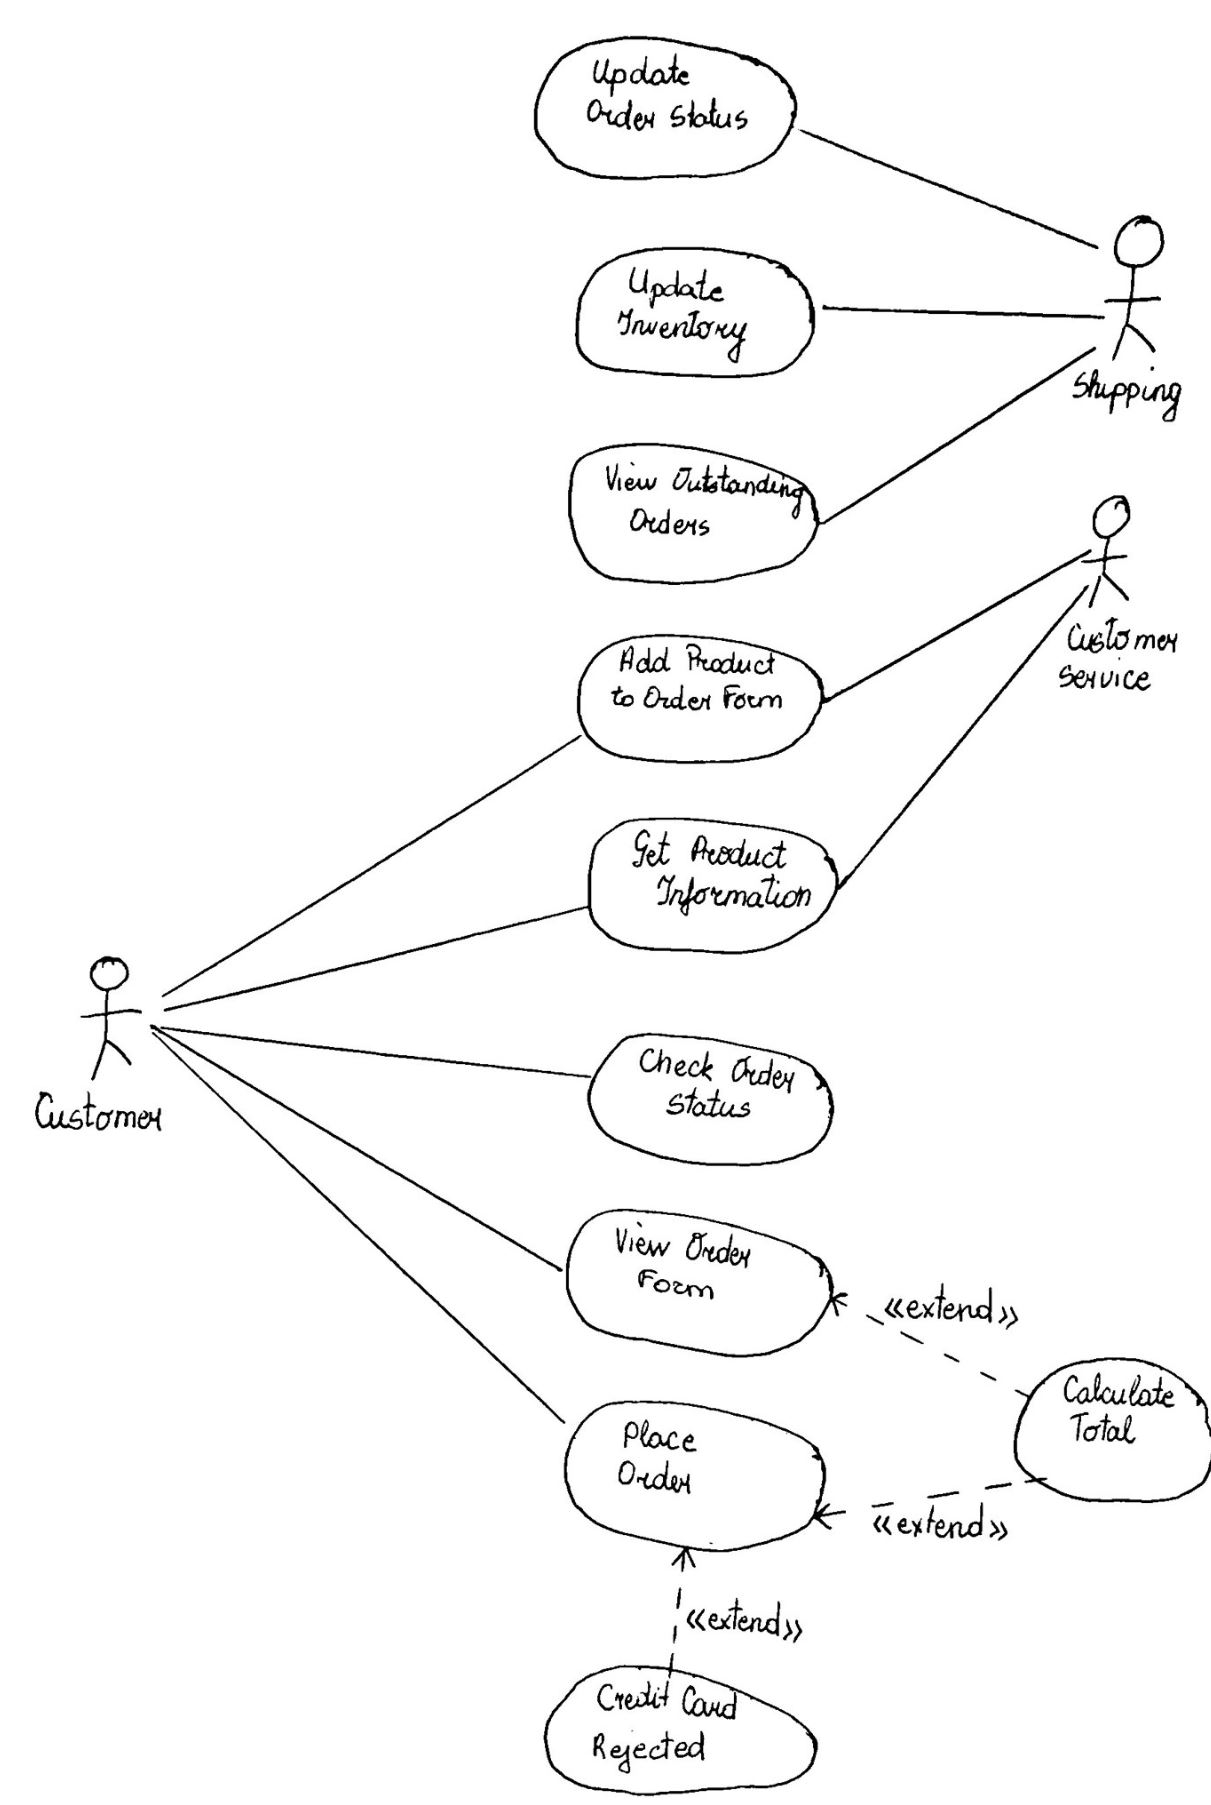actor: (61, 948, 147, 1092), (1102, 207, 1176, 363), (1084, 490, 1133, 609)
association: (151, 1032, 570, 1428), (159, 730, 584, 1007), (157, 1025, 570, 1278), (833, 586, 1087, 901), (820, 339, 1104, 527), (159, 904, 593, 1011), (824, 550, 1085, 713), (799, 124, 1104, 251), (155, 1017, 593, 1082), (833, 1292, 1029, 1396), (815, 295, 1102, 336), (820, 1479, 1029, 1527), (649, 1550, 711, 1663)
text: (599, 457, 818, 551), (630, 825, 819, 925), (604, 1217, 772, 1320), (585, 1677, 751, 1774), (610, 640, 799, 726), (588, 54, 761, 145), (634, 1038, 789, 1136), (614, 266, 773, 362), (601, 1415, 728, 1515), (1052, 620, 1185, 713), (1053, 1371, 1185, 1462), (1074, 361, 1197, 432), (678, 1597, 819, 1658), (31, 1088, 168, 1146), (872, 1283, 1023, 1332), (864, 1500, 1006, 1550)
use_case: (555, 1201, 833, 1365), (560, 1388, 829, 1555), (576, 1025, 839, 1175), (528, 34, 799, 180), (562, 438, 824, 586), (546, 1659, 820, 1800), (583, 813, 843, 955), (574, 630, 827, 766), (576, 242, 814, 386)
